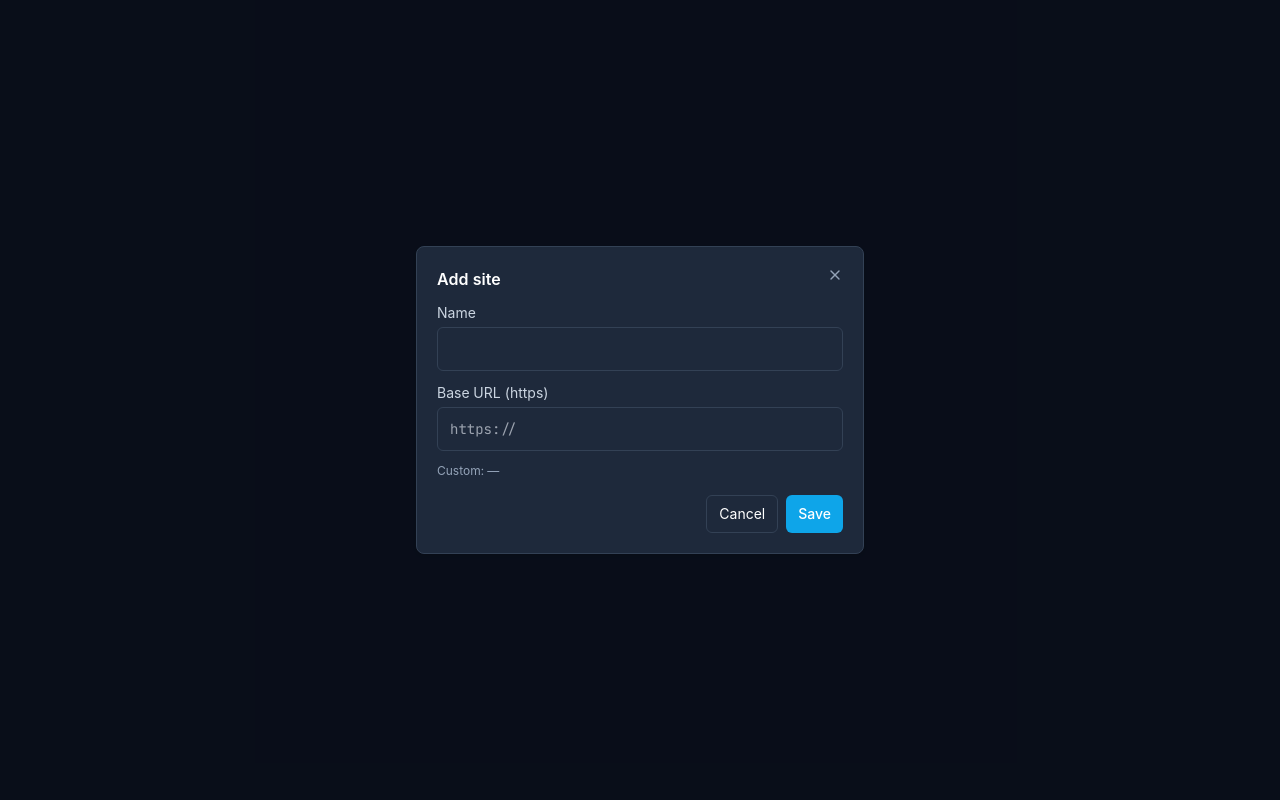
F81 AddSiteQuick per-field + cap › renders the URL error inline under the URL input (no toast)
The width and height of the screenshot is (1280, 800).
Type "Demo" into the field with test id "add-site-name" at (640, 349), box [437,327,843,371]
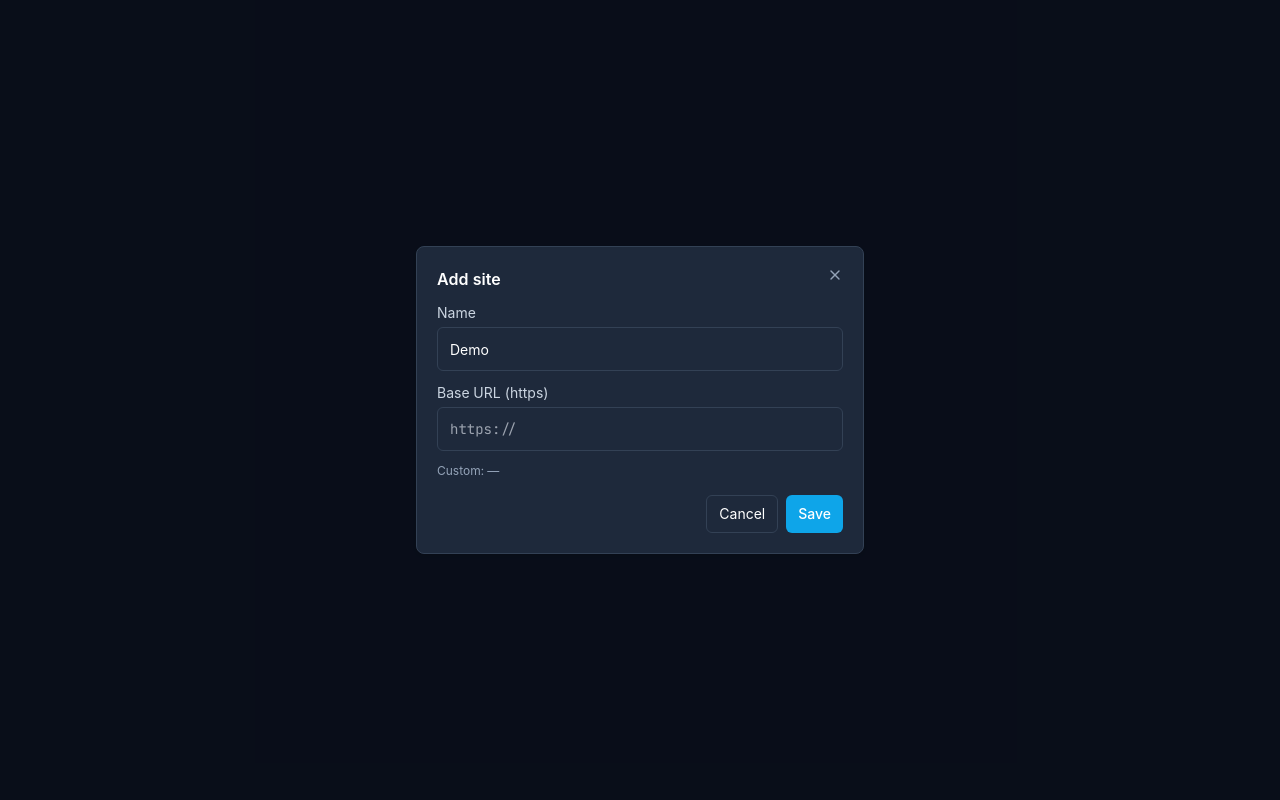
Type "http://example.com" into the field with test id "add-site-url" at (640, 429), box [437,407,843,451]
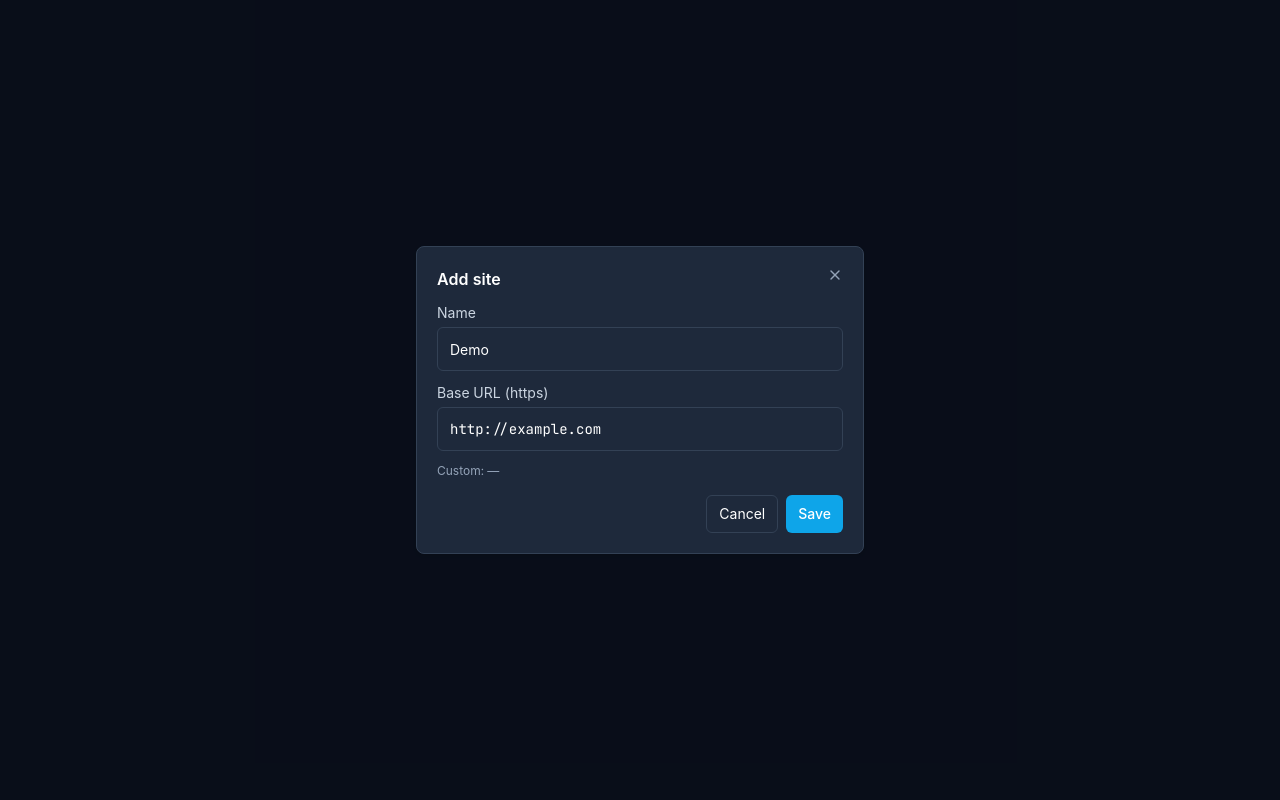
Click the button with test id "add-site-save" at (815, 514), box [786,495,843,533]
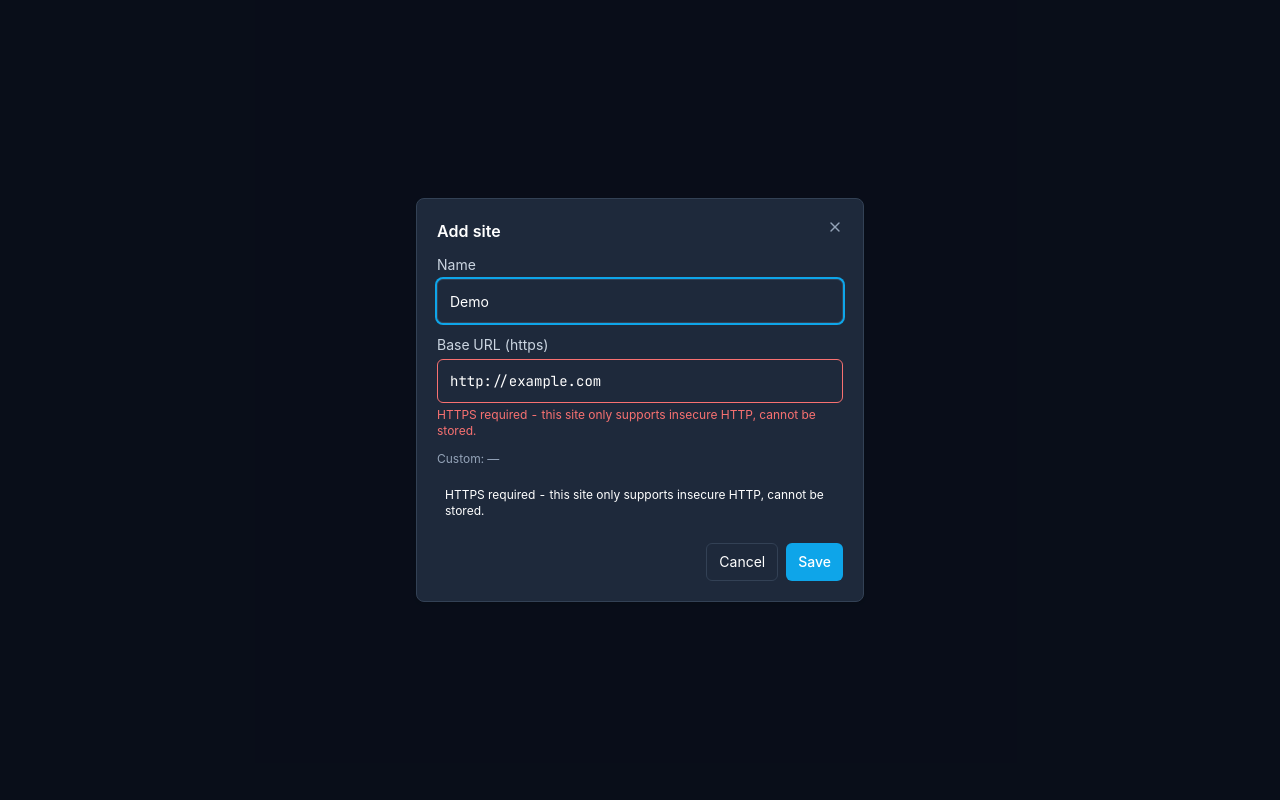
Result: the message with test id "add-site-url-error" is shown at [437,407,843,439]
